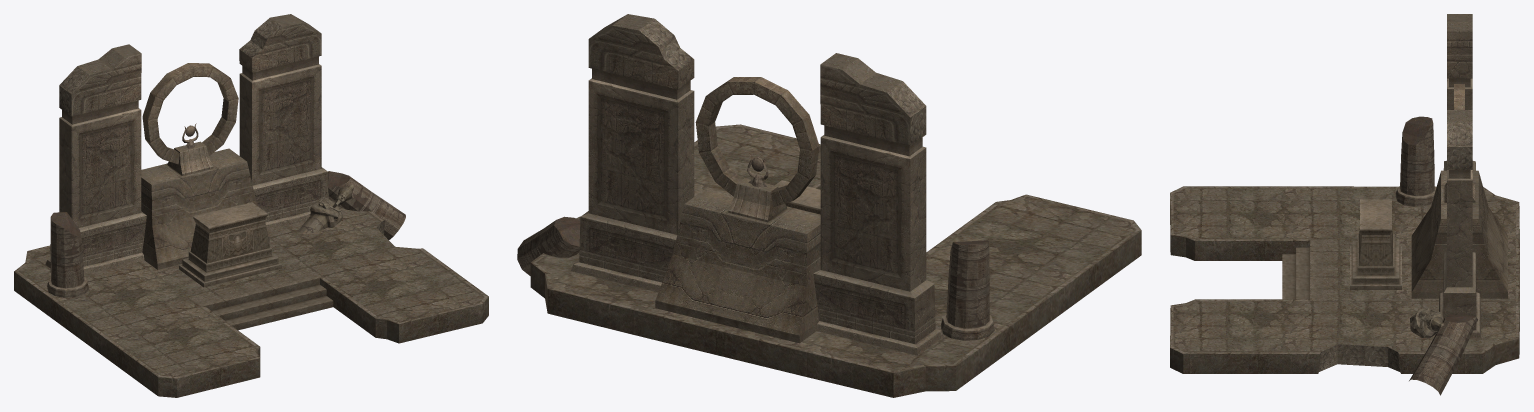
The model's file is pha_altar.glb.
The picture shows the model from 3 angles, left to right: view 1: azimuth 30°, elevation 25°; view 2: azimuth 150°, elevation 25°; view 3: azimuth 270°, elevation 25°; orthographic projection. The views are drawn at different scales.
Visible parts, largest first — view 1: Pha_altar01, Pha_altar03, Pha_altar04, Pha_altar02, Pha_altar05, Pha_altar_pillar01, Pha_altar_statue01; view 2: Pha_altar01, Pha_altar02, Pha_altar03, Pha_altar04, Pha_altar_pillar01, Pha_altar05; view 3: Pha_altar03, Pha_altar04, Pha_altar01, Pha_altar02, Pha_altar_pillar01, Pha_altar05, Pha_altar_statue01.
Boxes of the visible parts, x1,y1,x2,y2 form: Pha_altar01: (45, 14, 384, 274); Pha_altar03: (18, 199, 484, 376); Pha_altar04: (14, 211, 488, 397); Pha_altar02: (141, 63, 269, 269); Pha_altar05: (179, 202, 281, 287); Pha_altar_pillar01: (47, 171, 405, 297); Pha_altar_statue01: (298, 184, 354, 233); Pha_altar01: (571, 14, 943, 355); Pha_altar02: (655, 77, 820, 343); Pha_altar03: (536, 126, 1135, 370); Pha_altar04: (530, 124, 1141, 397); Pha_altar_pillar01: (517, 216, 994, 340); Pha_altar05: (775, 180, 820, 214); Pha_altar03: (1173, 188, 1515, 352); Pha_altar04: (1170, 186, 1519, 373); Pha_altar01: (1318, 14, 1480, 373); Pha_altar02: (1411, 84, 1507, 298); Pha_altar_pillar01: (1395, 116, 1477, 395); Pha_altar05: (1350, 199, 1401, 289); Pha_altar_statue01: (1410, 308, 1443, 338).
Size of the model in its own units: 50.2 by 31.32 by 40.18.
Materials: 7 (7 with a texture image).
